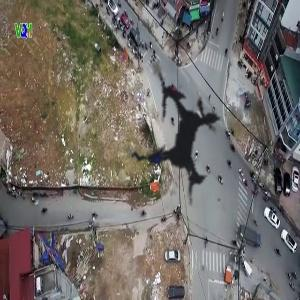drone: (70, 25, 290, 245)
